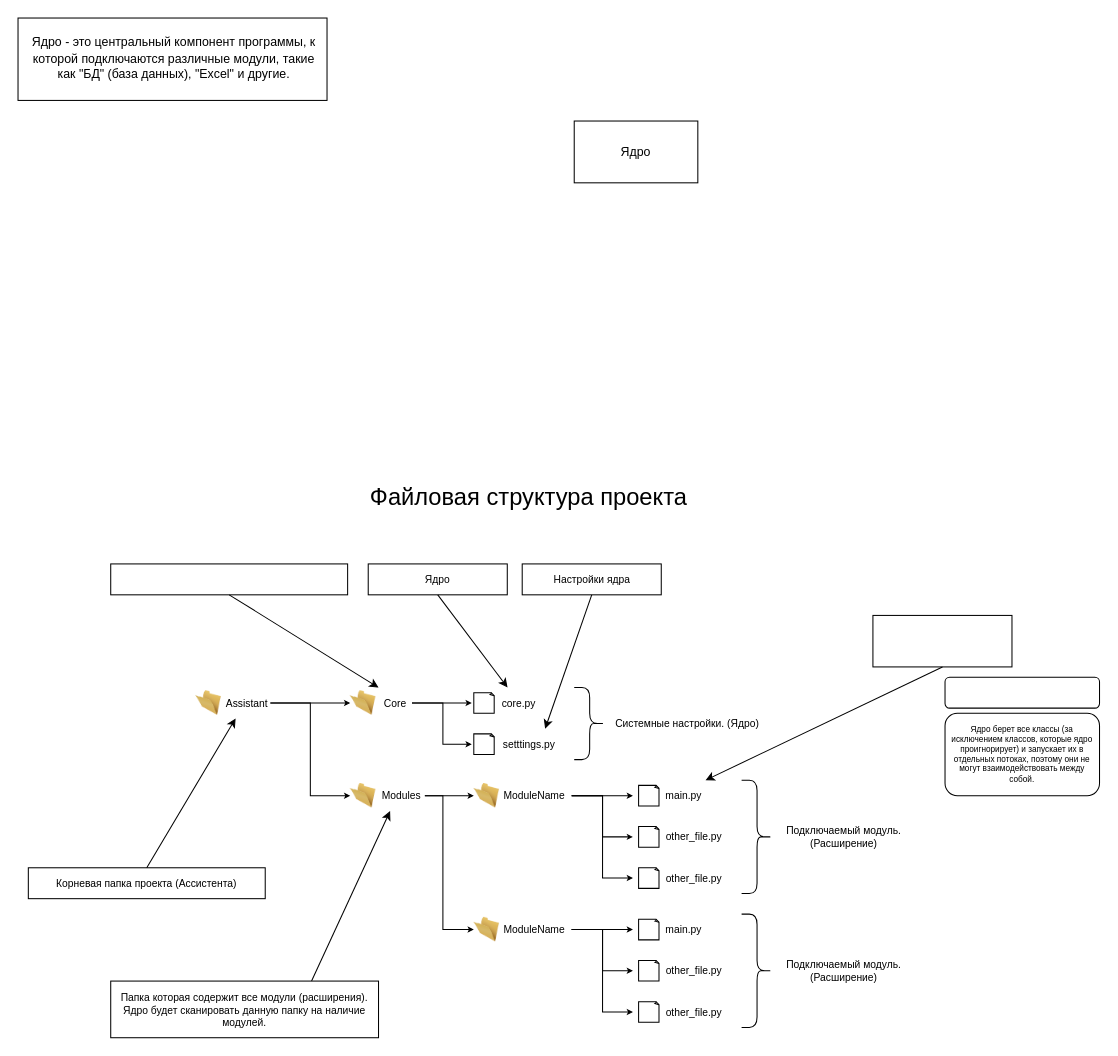
This 1118x1056 diagram has some shape labels left out. The centre of each missing label's shape, as x and y in pixels:
Главный файл. От него ядро будет получать инструкции.: [942,640]
Структура кода в файле: [1022,692]
Ядро ассистента: [229,579]
